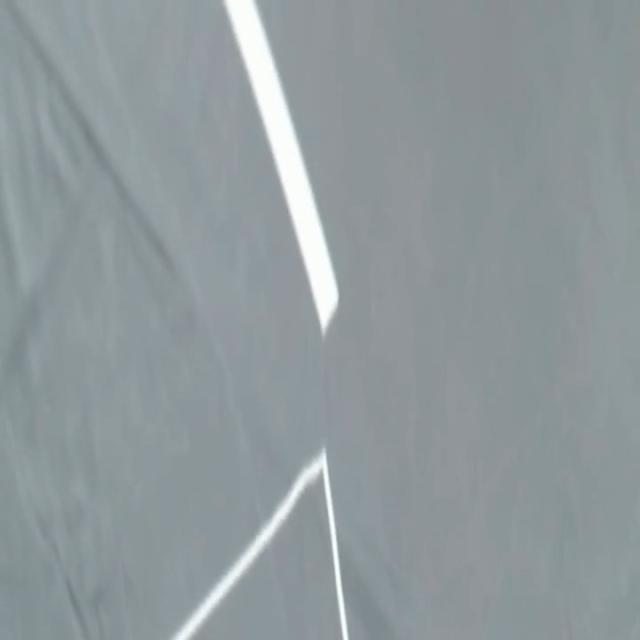center: (223, 0, 338, 334)
